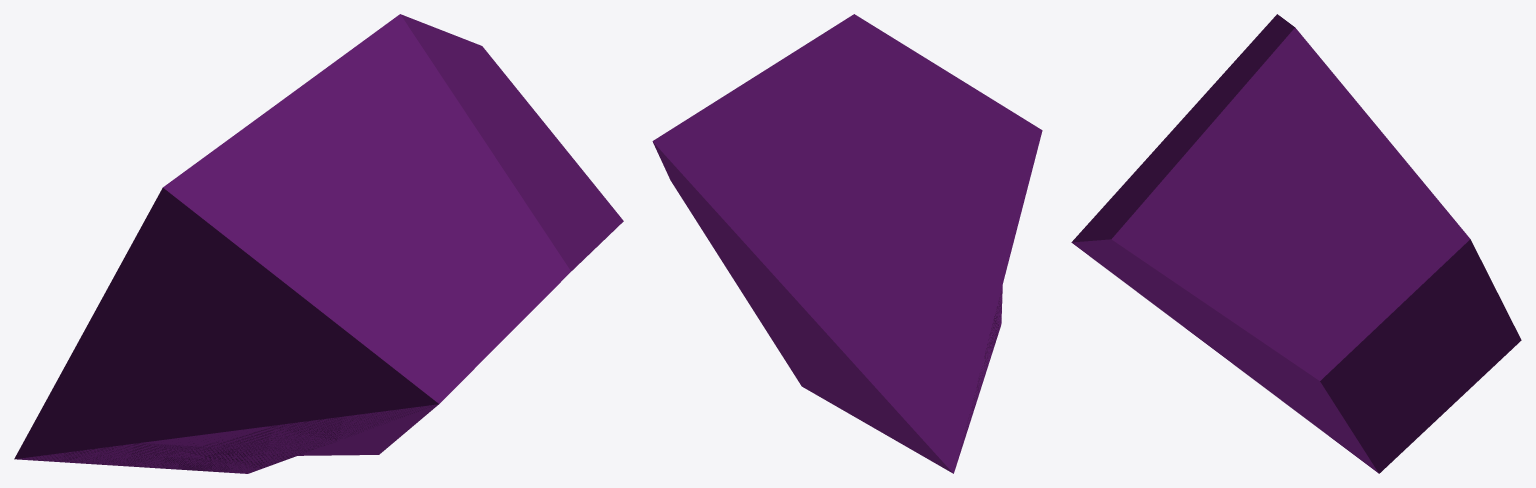
File: TU_Obstacle_Fraud_fragment.fbx
The picture shows the model from 3 angles, left to right: view 1: azimuth 30°, elevation 25°; view 2: azimuth 150°, elevation 25°; view 3: azimuth 270°, elevation 25°; orthographic projection. The views are drawn at different scales.
Visible parts, largest first — view 1: Obstacle_Fraud_Fragment; view 2: Obstacle_Fraud_Fragment; view 3: Obstacle_Fraud_Fragment.
Boxes of the visible parts, x1,y1,x2,y2 form: Obstacle_Fraud_Fragment: (14, 14, 623, 473); Obstacle_Fraud_Fragment: (652, 14, 1042, 473); Obstacle_Fraud_Fragment: (1071, 14, 1521, 473).
Size of the model in its own units: 11.92 by 10.99 by 10.3.
